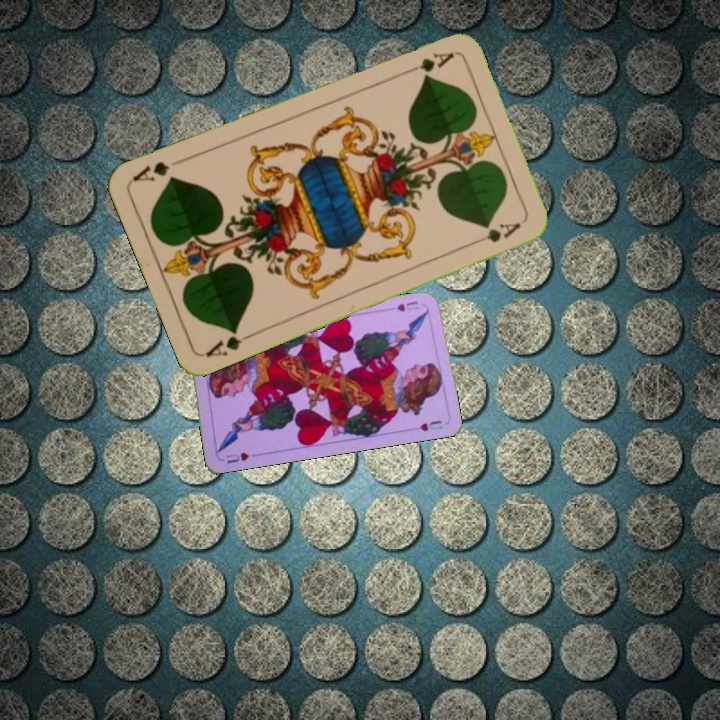GA: (201, 324, 258, 360), (400, 48, 457, 77)
HU: (219, 448, 251, 466), (393, 297, 421, 314)
